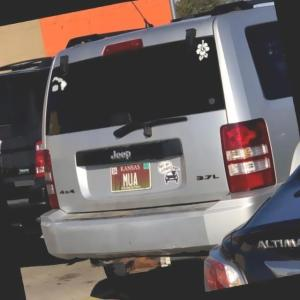Plate: (110, 161, 151, 193)
